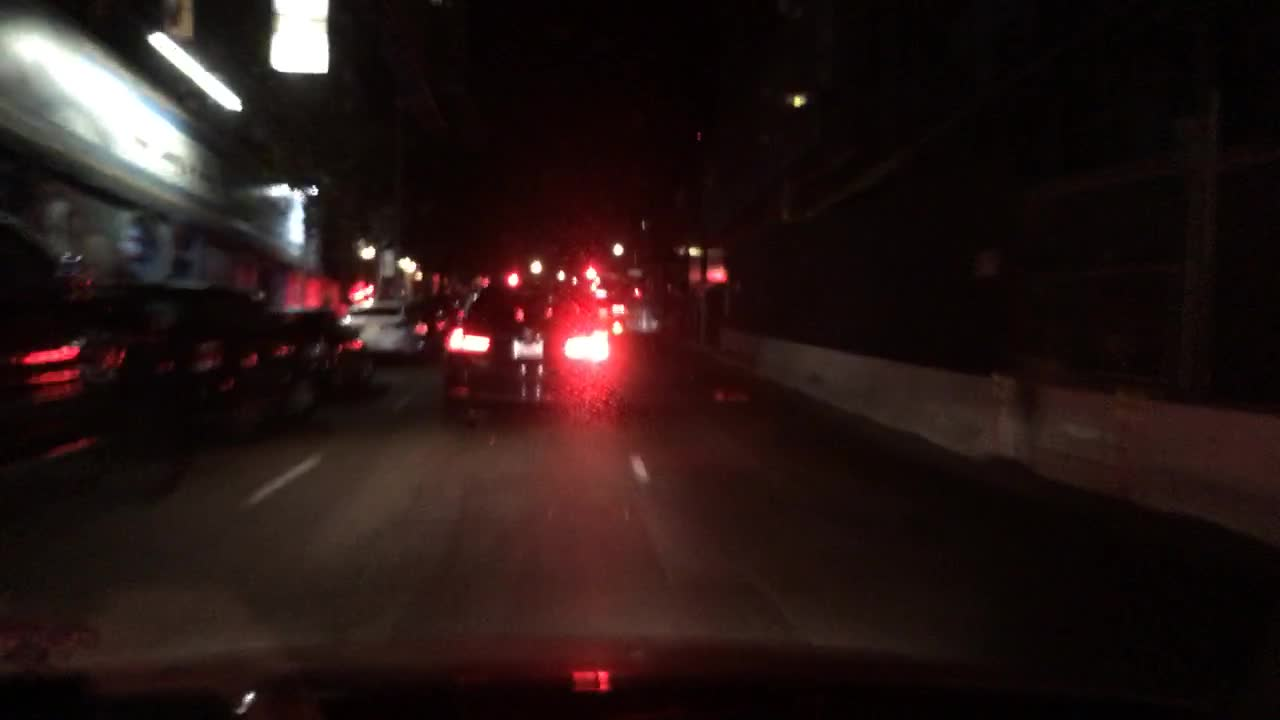car: (0, 212, 183, 506), (113, 279, 322, 443), (444, 273, 632, 429), (277, 303, 382, 394), (339, 299, 417, 360), (416, 299, 456, 350), (595, 299, 631, 341), (623, 302, 663, 335), (442, 297, 473, 326)
